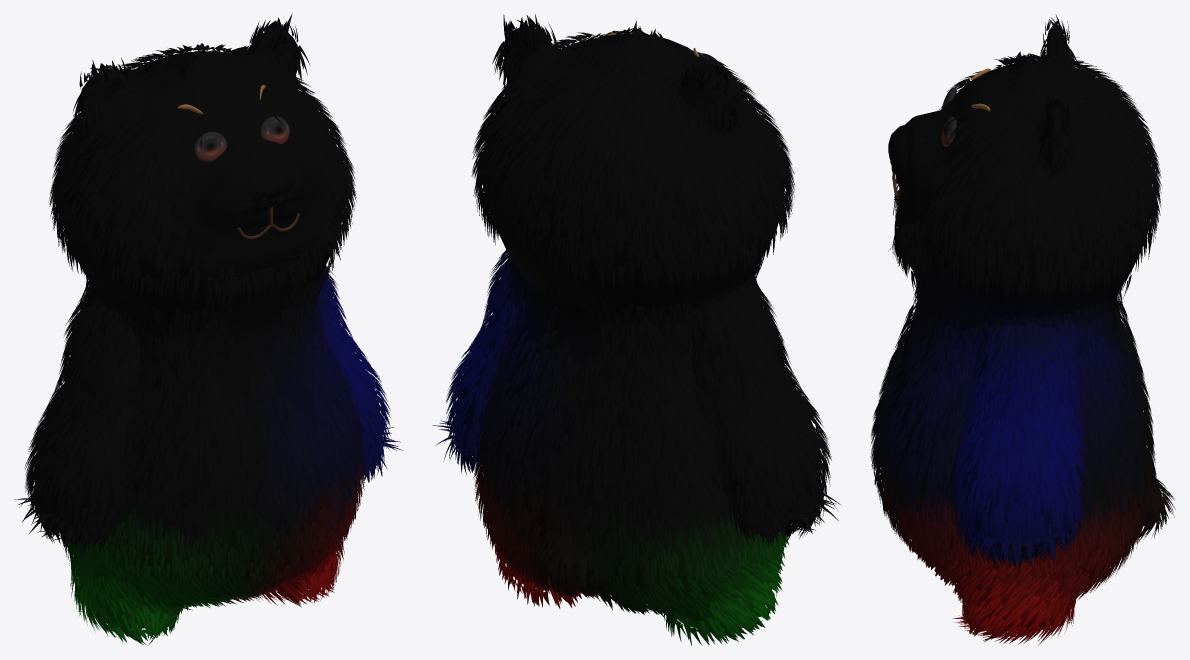
Rendered from bear_shell_v16.glb.
3 views of the same model, side by side, from view 1: azimuth 30°, elevation 25°; view 2: azimuth 150°, elevation 25°; view 3: azimuth 270°, elevation 25° (orthographic). The views are drawn at different scales.
Visible parts, largest first — view 1: LayeredCurvedGroom, BoundedShellGroom, Body, BrownBear_Normal; view 2: LayeredCurvedGroom, BoundedShellGroom, Body; view 3: LayeredCurvedGroom, BoundedShellGroom, Body, BrownBear_Normal.
Part boxes in pixels (x1=…): LayeredCurvedGroom: x1=14, y1=14, x2=402, y2=645; BoundedShellGroom: x1=33, y1=29, x2=380, y2=628; Body: x1=51, y1=35, x2=373, y2=613; BrownBear_Normal: x1=194, y1=116, x2=289, y2=162; LayeredCurvedGroom: x1=432, y1=14, x2=841, y2=645; BoundedShellGroom: x1=455, y1=27, x2=821, y2=628; Body: x1=463, y1=28, x2=818, y2=617; LayeredCurvedGroom: x1=870, y1=14, x2=1175, y2=645; BoundedShellGroom: x1=879, y1=27, x2=1161, y2=631; Body: x1=880, y1=48, x2=1151, y2=604; BrownBear_Normal: x1=941, y1=87, x2=956, y2=146.
Size of the model in its own units: 1.76 by 2.57 by 1.31.
6 materials, 4 textured.
